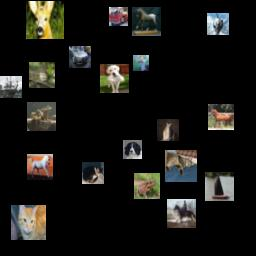airplane: (207, 13, 229, 35)
automobile: (69, 46, 91, 68)
bird: (29, 62, 55, 88), (133, 55, 149, 71)
cat: (11, 205, 46, 240), (165, 150, 197, 182), (82, 162, 104, 184), (157, 119, 179, 141)
deer: (26, 1, 64, 39)
dog: (100, 64, 129, 93), (123, 140, 142, 159)
frog: (27, 102, 56, 131), (134, 173, 160, 199)
ship: (205, 172, 234, 201), (0, 76, 22, 98)
truck: (109, 7, 128, 26)
